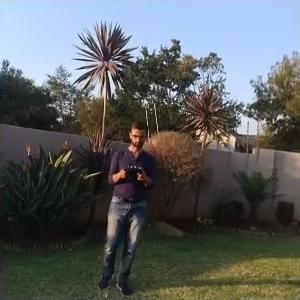follow: (92, 110, 156, 297)
